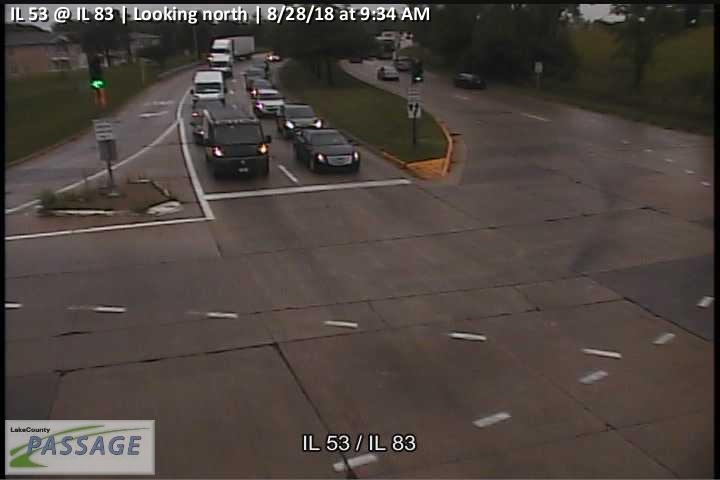SUV: (203, 109, 271, 181), (190, 71, 229, 108), (207, 52, 233, 78), (395, 56, 411, 71)
Sedan: (292, 128, 361, 173), (277, 105, 323, 142), (193, 101, 231, 144), (249, 88, 286, 118), (244, 68, 271, 93), (452, 71, 485, 89), (251, 77, 275, 98), (376, 65, 400, 80), (247, 62, 270, 75)
Truck: (211, 36, 256, 61)
